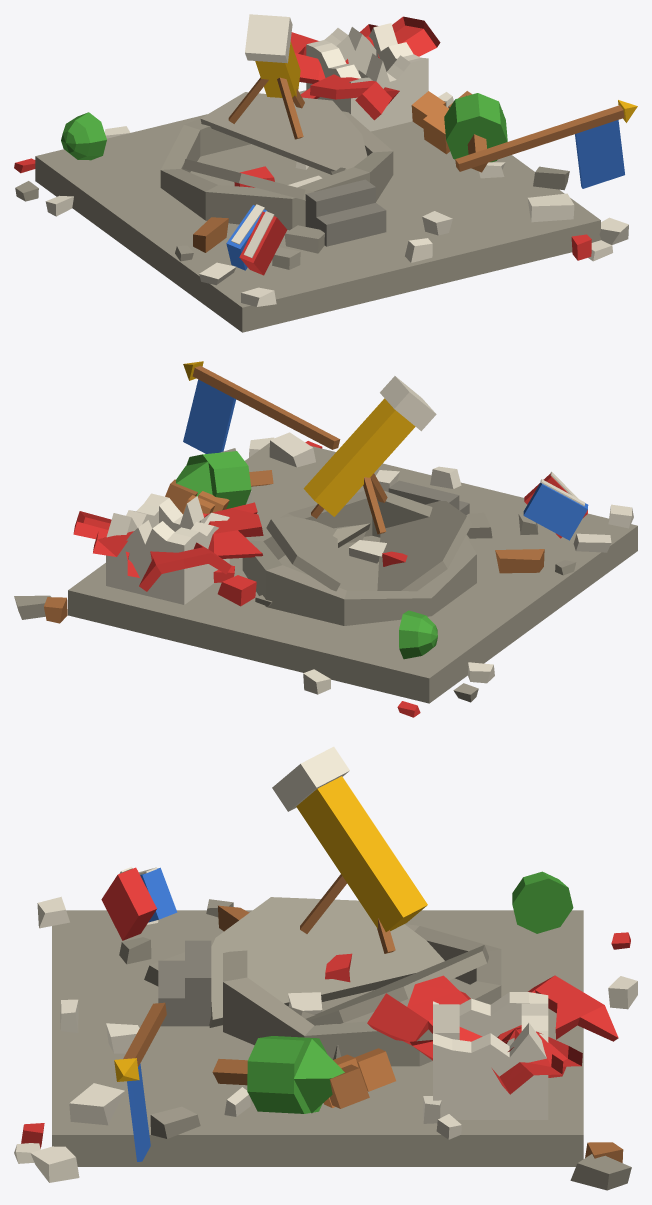
File: observatory_t1_v3_dmg2.glb
3 renders of one model, top to bottom at view 1: azimuth 30°, elevation 25°; view 2: azimuth 150°, elevation 25°; view 3: azimuth 270°, elevation 25°, orthographic. The views are drawn at different scales.
Parts seen in each view (by area): view 1: observatory_t1_v3_dmg2; view 2: observatory_t1_v3_dmg2; view 3: observatory_t1_v3_dmg2.
Part boxes in pixels (x1,y1,x2,y2): observatory_t1_v3_dmg2: (14,14,637,332); observatory_t1_v3_dmg2: (14,361,637,717); observatory_t1_v3_dmg2: (14,746,637,1190).
Bounding box in the file's own units: 0.7599 × 0.3351 × 0.7041.
1 material, 1 textured.
